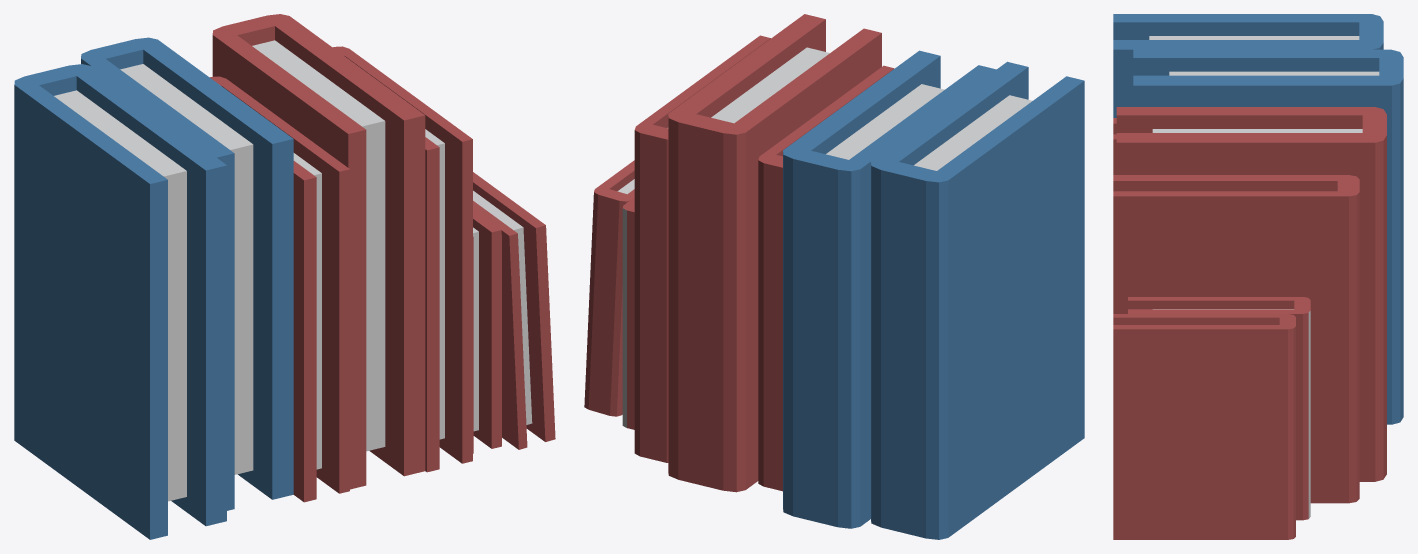
Rendered from O_Clutter_BookStack_Small2.fbx.
3 views of the same model, side by side, from view 1: azimuth 30°, elevation 25°; view 2: azimuth 150°, elevation 25°; view 3: azimuth 270°, elevation 25° (orthographic). The views are drawn at different scales.
Visible parts, largest first — view 1: pCube57; view 2: pCube57; view 3: pCube57.
Boxes of the visible parts, x1,y1,x2,y2 form: pCube57: (14,14,555,539); pCube57: (584,14,1084,539); pCube57: (1113,14,1403,539).
Size of the model in its own units: 0.8568 by 0.7186 by 0.5574.
